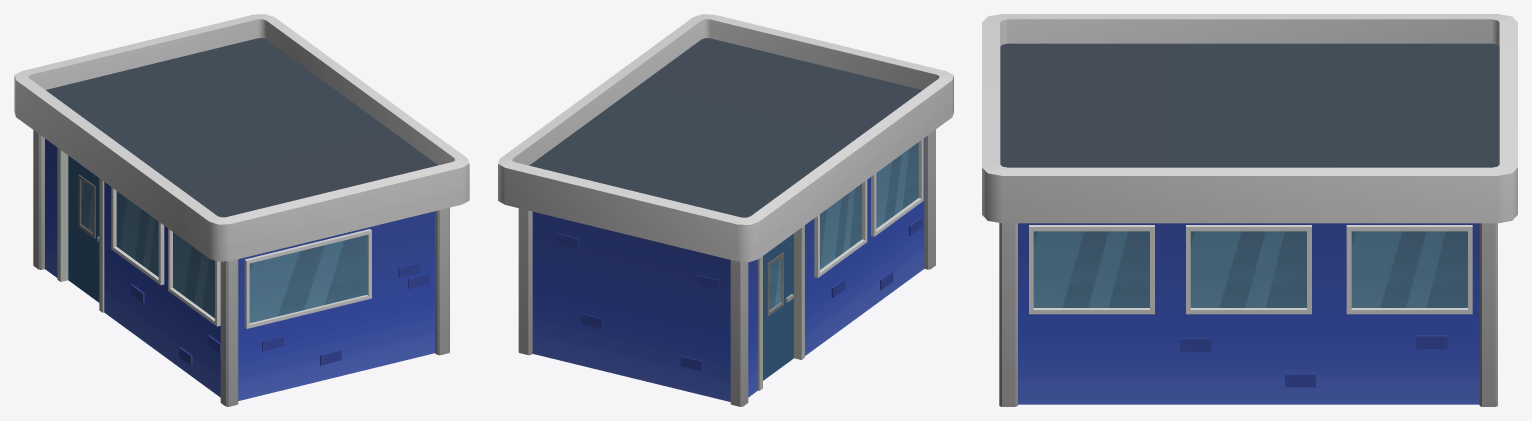
File: Building_13_B.fbx
The picture shows the model from 3 angles, left to right: view 1: azimuth 30°, elevation 25°; view 2: azimuth 150°, elevation 25°; view 3: azimuth 270°, elevation 25°; orthographic projection. The views are drawn at different scales.
Parts seen in each view (by area): view 1: Building_13_B; view 2: Building_13_B; view 3: Building_13_B.
Part boxes in pixels (box(x1,y1,x2,y2)): Building_13_B: box(14, 14, 469, 406); Building_13_B: box(498, 14, 953, 406); Building_13_B: box(982, 14, 1517, 406).
Size of the model in its own units: 392 by 276 by 549.
